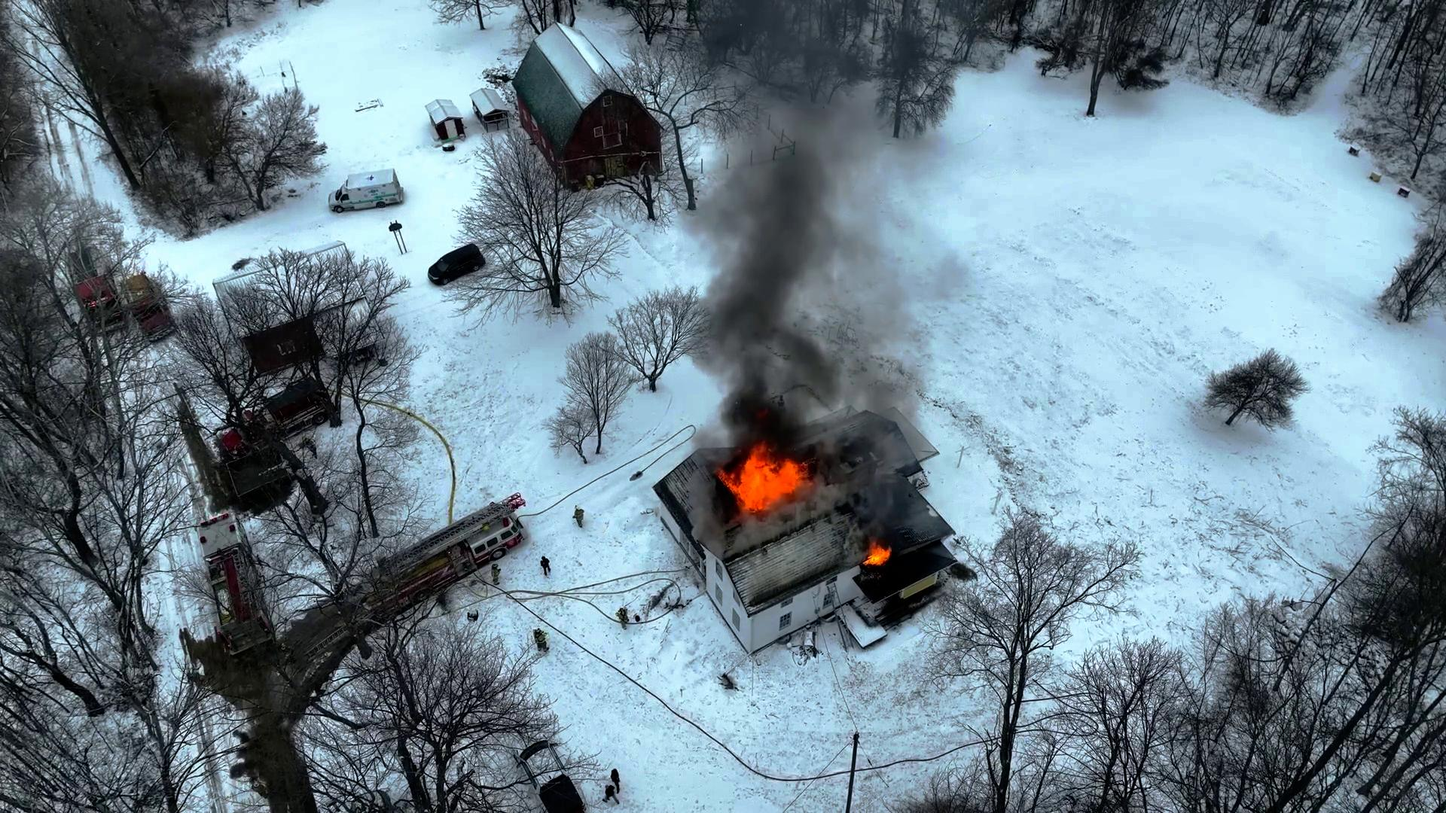fire: (731, 448, 804, 524), (859, 542, 888, 572)
smoke: (720, 258, 795, 426)
